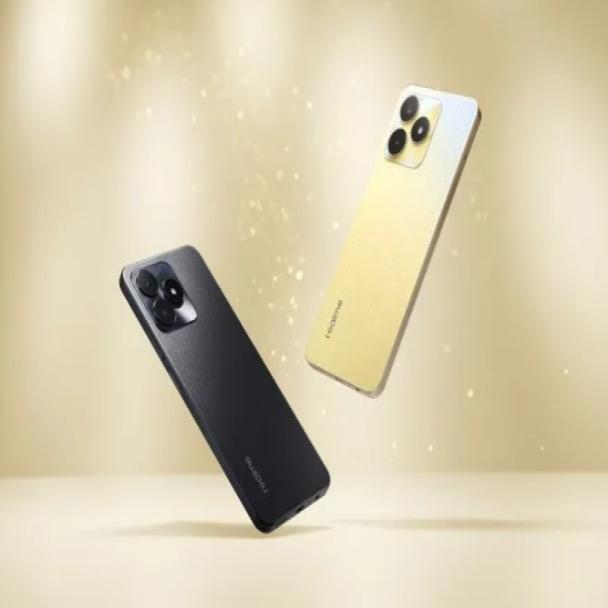Handphone: (117, 238, 336, 538), (303, 81, 489, 402)
